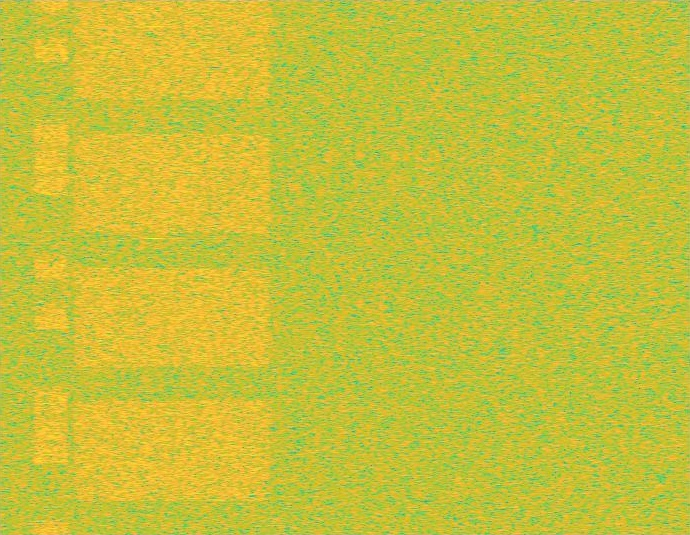5G: (69, 0, 276, 534)
LTE: (34, 0, 69, 534)
Radar: (147, 0, 161, 534)
